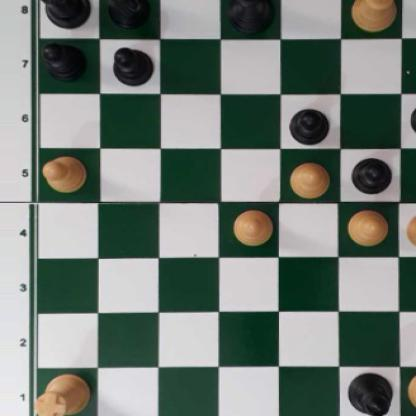black-bishop: (346, 369, 396, 416)
black-king: (227, 0, 275, 35)
black-knight: (98, 0, 150, 27)
black-pawn: (38, 38, 88, 81), (288, 104, 331, 144), (112, 44, 152, 85), (351, 155, 392, 194), (410, 99, 416, 138)
black-rook: (33, 0, 90, 28)
white-bishop: (353, 0, 398, 31)
white-king: (406, 368, 416, 416)
white-pawn: (41, 155, 88, 193), (287, 160, 332, 198), (346, 207, 388, 246), (231, 209, 273, 244), (405, 210, 416, 250)
white-rook: (34, 372, 90, 416)
